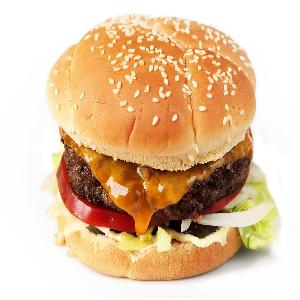cheeseburger_475cal: (30, 7, 289, 289)
